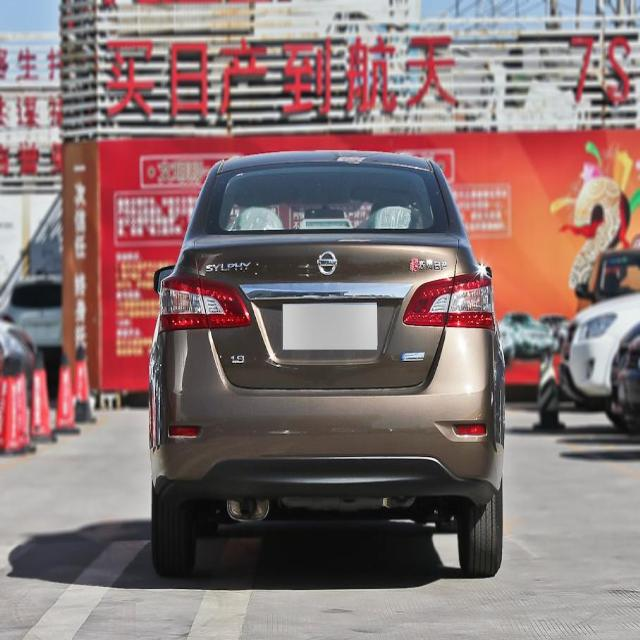back_glass: (207, 161, 446, 237)
back_left_side_light: (156, 265, 253, 334)
back_right_side_light: (403, 270, 496, 333)
rear_bumper: (150, 328, 500, 507)
wheel: (152, 491, 196, 574), (457, 500, 503, 577)
